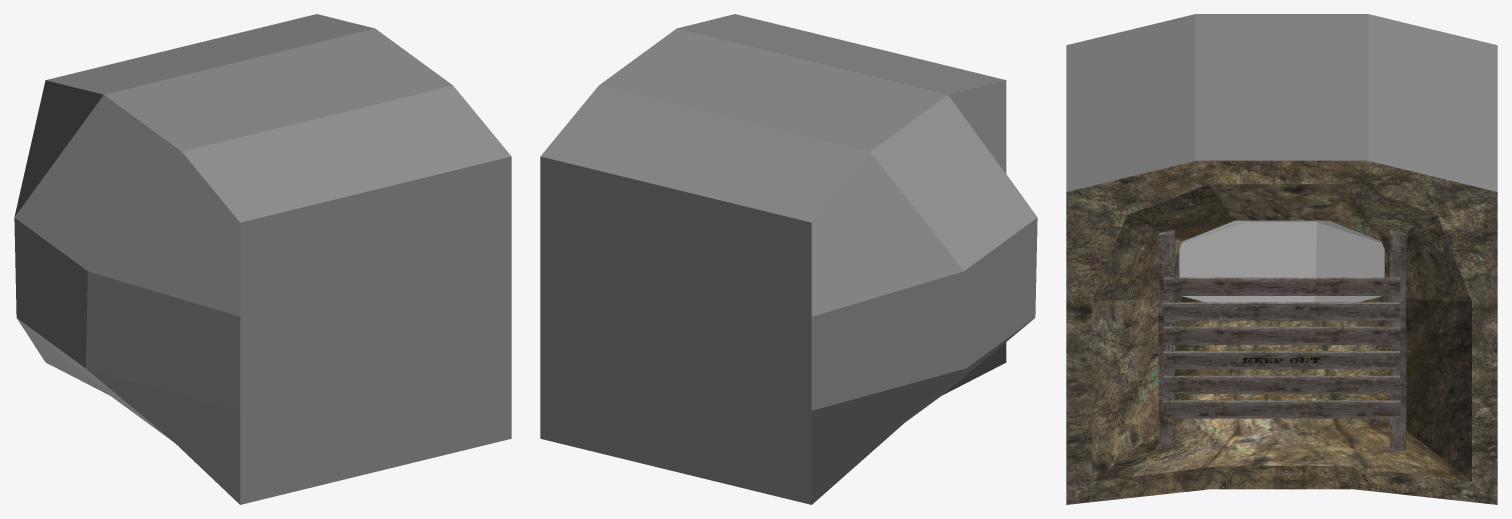
The model's file is svgoldmine01-2.dae.
3 renders of one model, left to right at view 1: azimuth 30°, elevation 25°; view 2: azimuth 150°, elevation 25°; view 3: azimuth 270°, elevation 25°, orthographic. The views are drawn at different scales.
Visible parts, largest first — view 1: unnamed_object1_copy53-0; view 2: unnamed_object1_copy53-0; view 3: unnamed_object1_copy53-0, unnamed_object1_copy52-0.
Boxes of the visible parts, <box> form: unnamed_object1_copy53-0: <box>14,14,511,504</box>; unnamed_object1_copy53-0: <box>540,14,1037,504</box>; unnamed_object1_copy53-0: <box>1066,14,1497,504</box>; unnamed_object1_copy52-0: <box>1158,230,1406,450</box>.
Size of the model in its own units: 1615 by 1320 by 1500.
